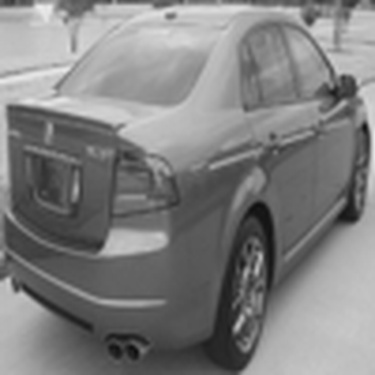car: (13, 8, 354, 353)
